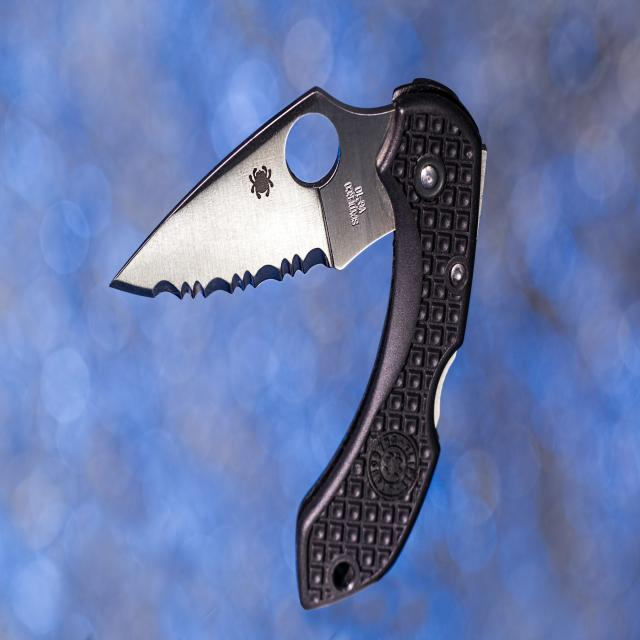knife: (106, 78, 524, 609)
